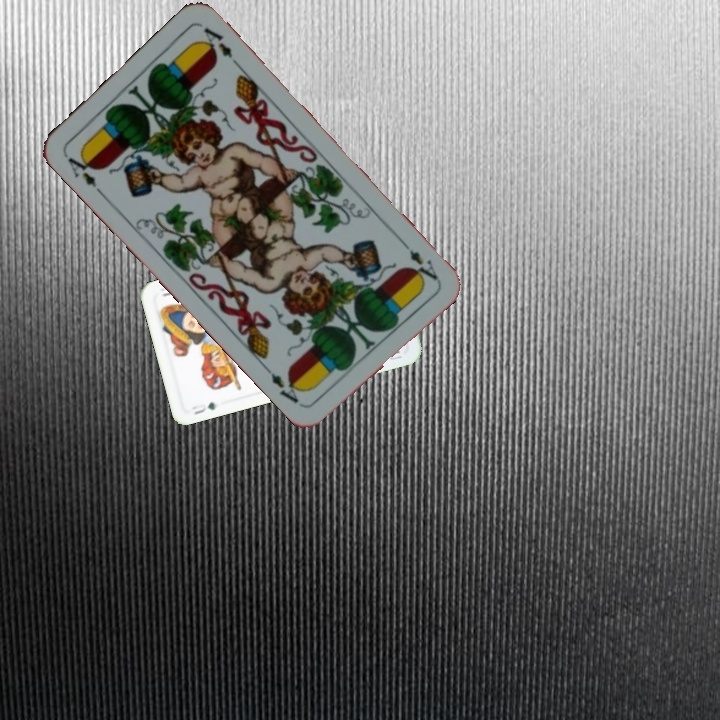EA: (61, 147, 107, 199), (396, 235, 441, 283)
GU: (187, 398, 218, 417)
